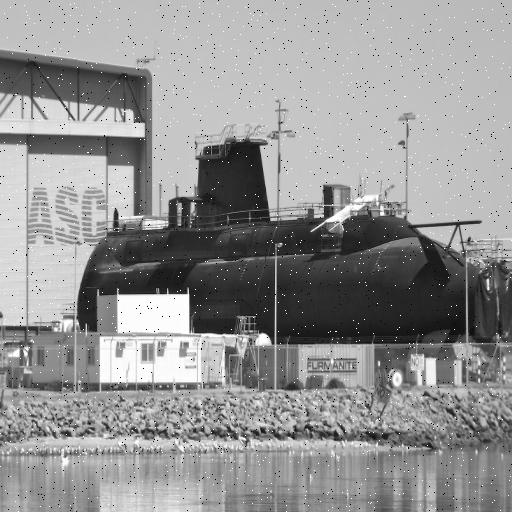submarine: (84, 130, 512, 348)
